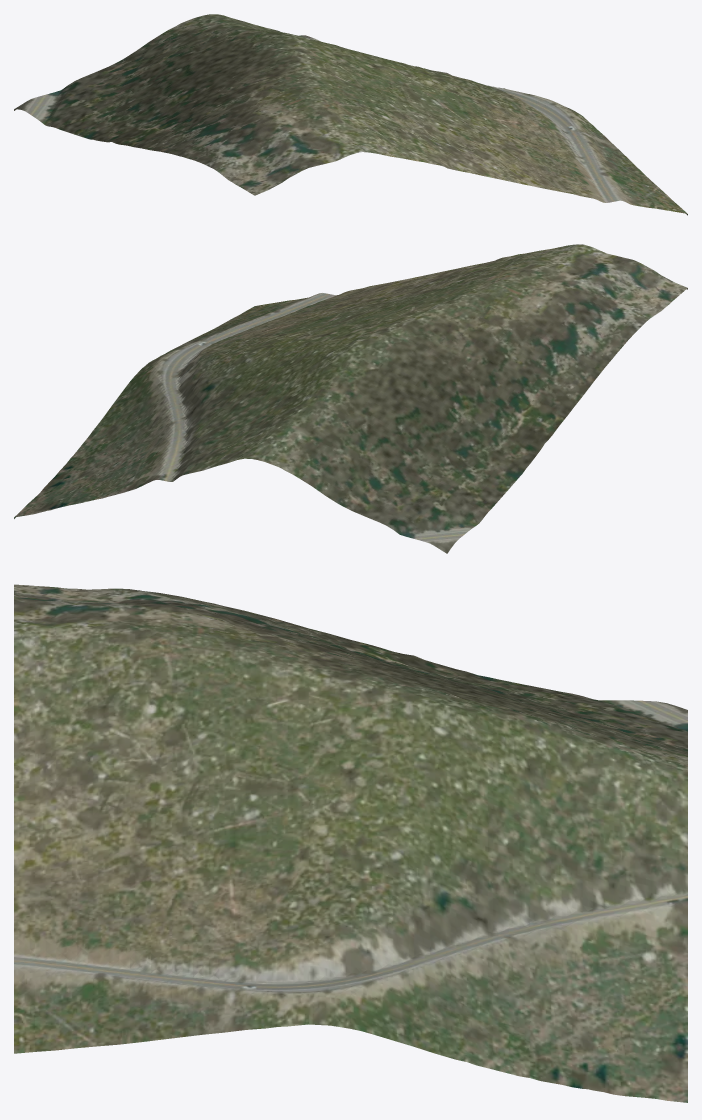
The picture shows the model from 3 angles, top to bottom: view 1: azimuth 30°, elevation 25°; view 2: azimuth 150°, elevation 25°; view 3: azimuth 270°, elevation 25°; orthographic projection. The views are drawn at different scales.
Size of the model in its own units: 250 by 100 by 241.
1 material, 1 textured.
